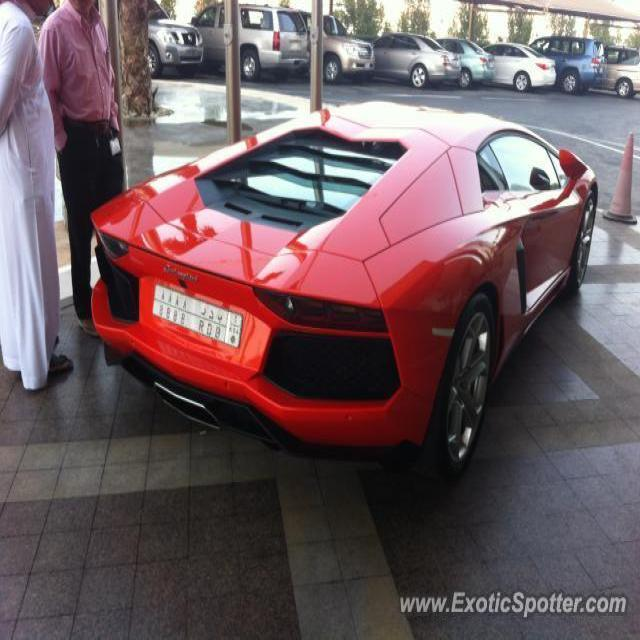license_plate: (146, 274, 248, 356)
